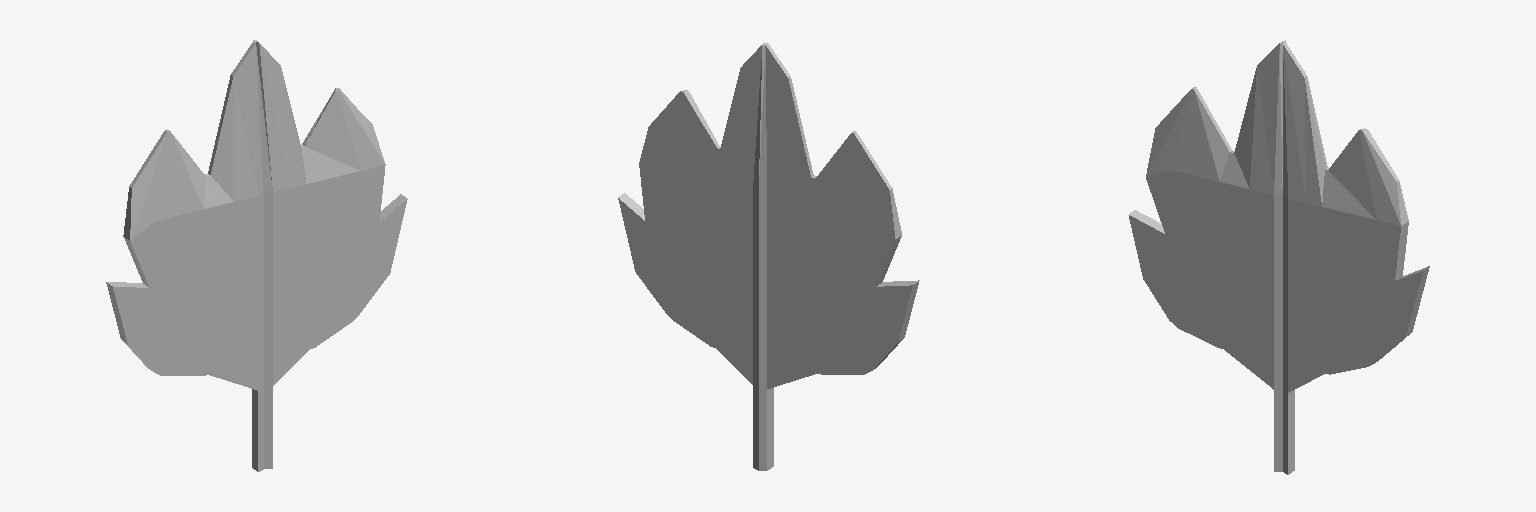
The model's file is Leaf.obj.
3 views of the same model, side by side, from view 1: azimuth 30°, elevation 25°; view 2: azimuth 150°, elevation 25°; view 3: azimuth 330°, elevation 25° (orthographic).
Parts seen in each view (by area): view 1: pCube1; view 2: pCube1; view 3: pCube1.
Boxes of the visible parts, <box> form: pCube1: <box>106,40,407,471</box>; pCube1: <box>618,43,919,470</box>; pCube1: <box>1129,40,1429,474</box>.
Size of the model in its own units: 0.882 by 1.22 by 0.0436.